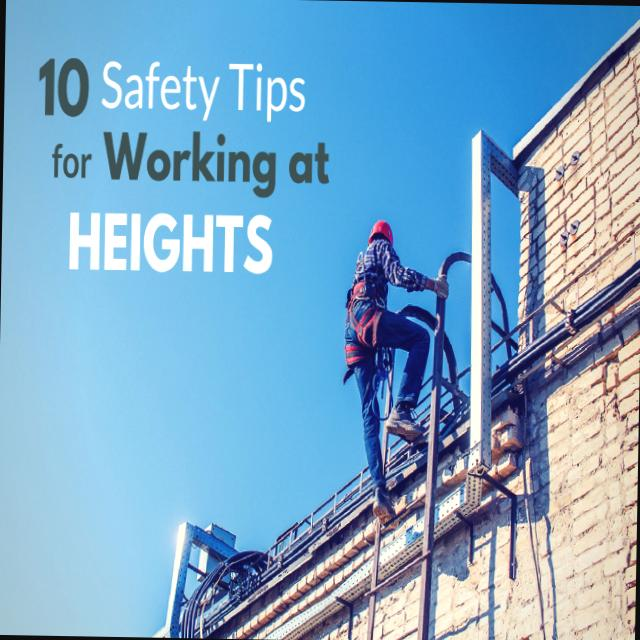helmet: (362, 216, 396, 251)
no-vest: (346, 232, 396, 334)
